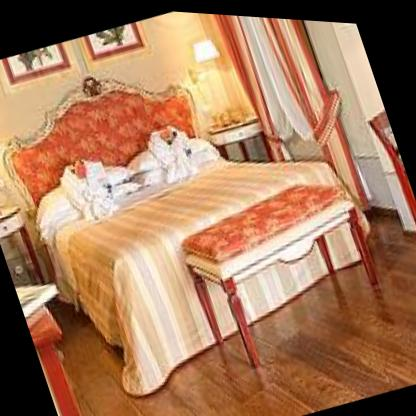Bed: (0, 3, 377, 385)
Table: (170, 158, 396, 383)
